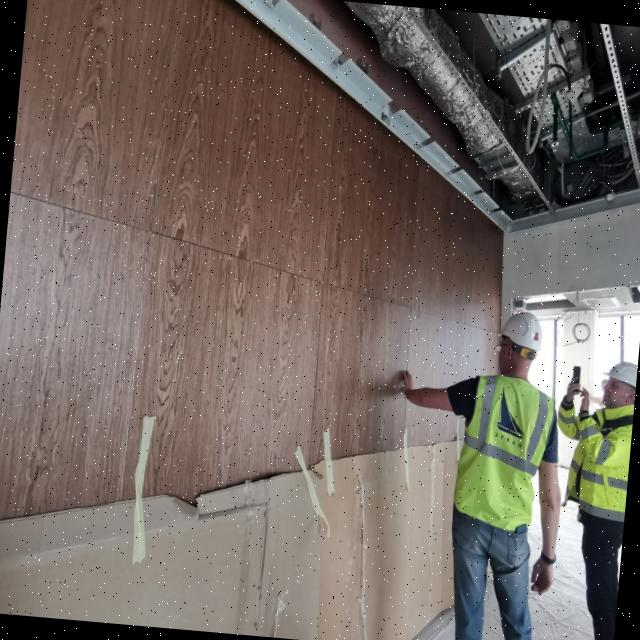Helmet: (495, 308, 545, 364), (601, 359, 638, 396)
Jacket: (460, 362, 544, 537), (576, 395, 636, 527)
